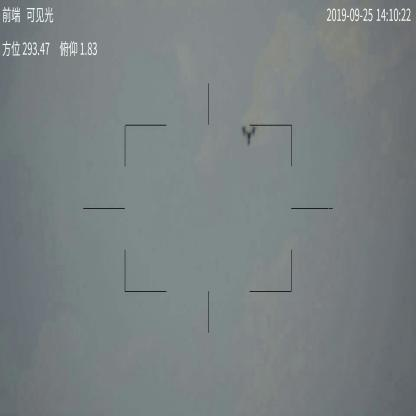uav: (241, 121, 257, 146)
